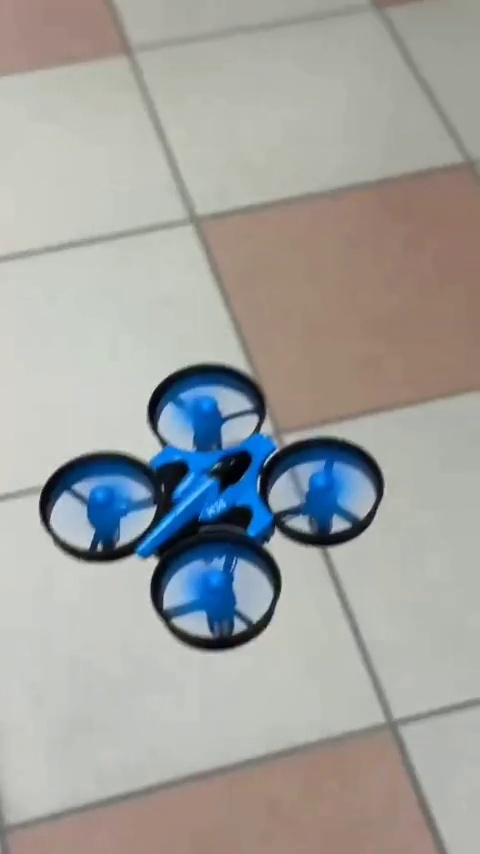drone: (39, 358, 391, 644)
